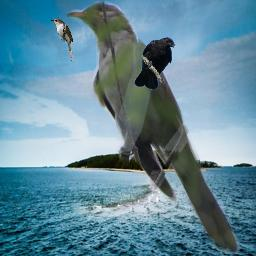Crow: (134, 37, 176, 90)
Cuckoo: (67, 1, 247, 256), (50, 18, 73, 62)
